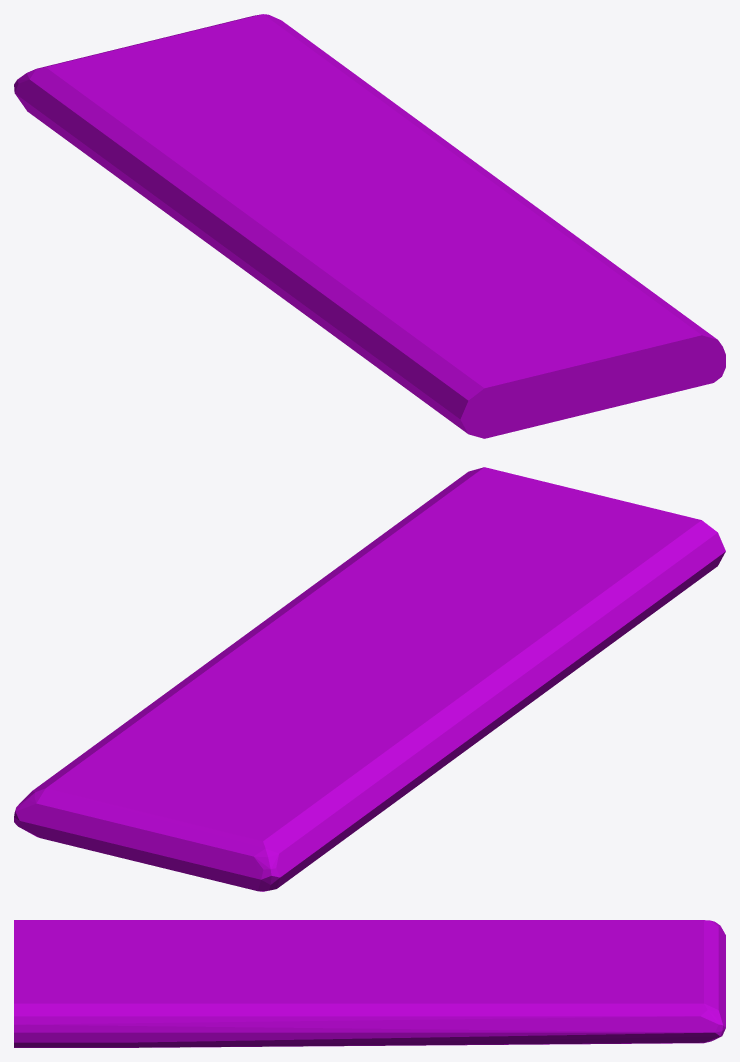
The model's file is model0_convex_piece_000.obj.
The picture shows the model from 3 angles, top to bottom: view 1: azimuth 30°, elevation 25°; view 2: azimuth 150°, elevation 25°; view 3: azimuth 270°, elevation 25°; orthographic projection. The views are drawn at different scales.
Size of the model in its own units: 0.0153 by 0.00278 by 0.0452.
